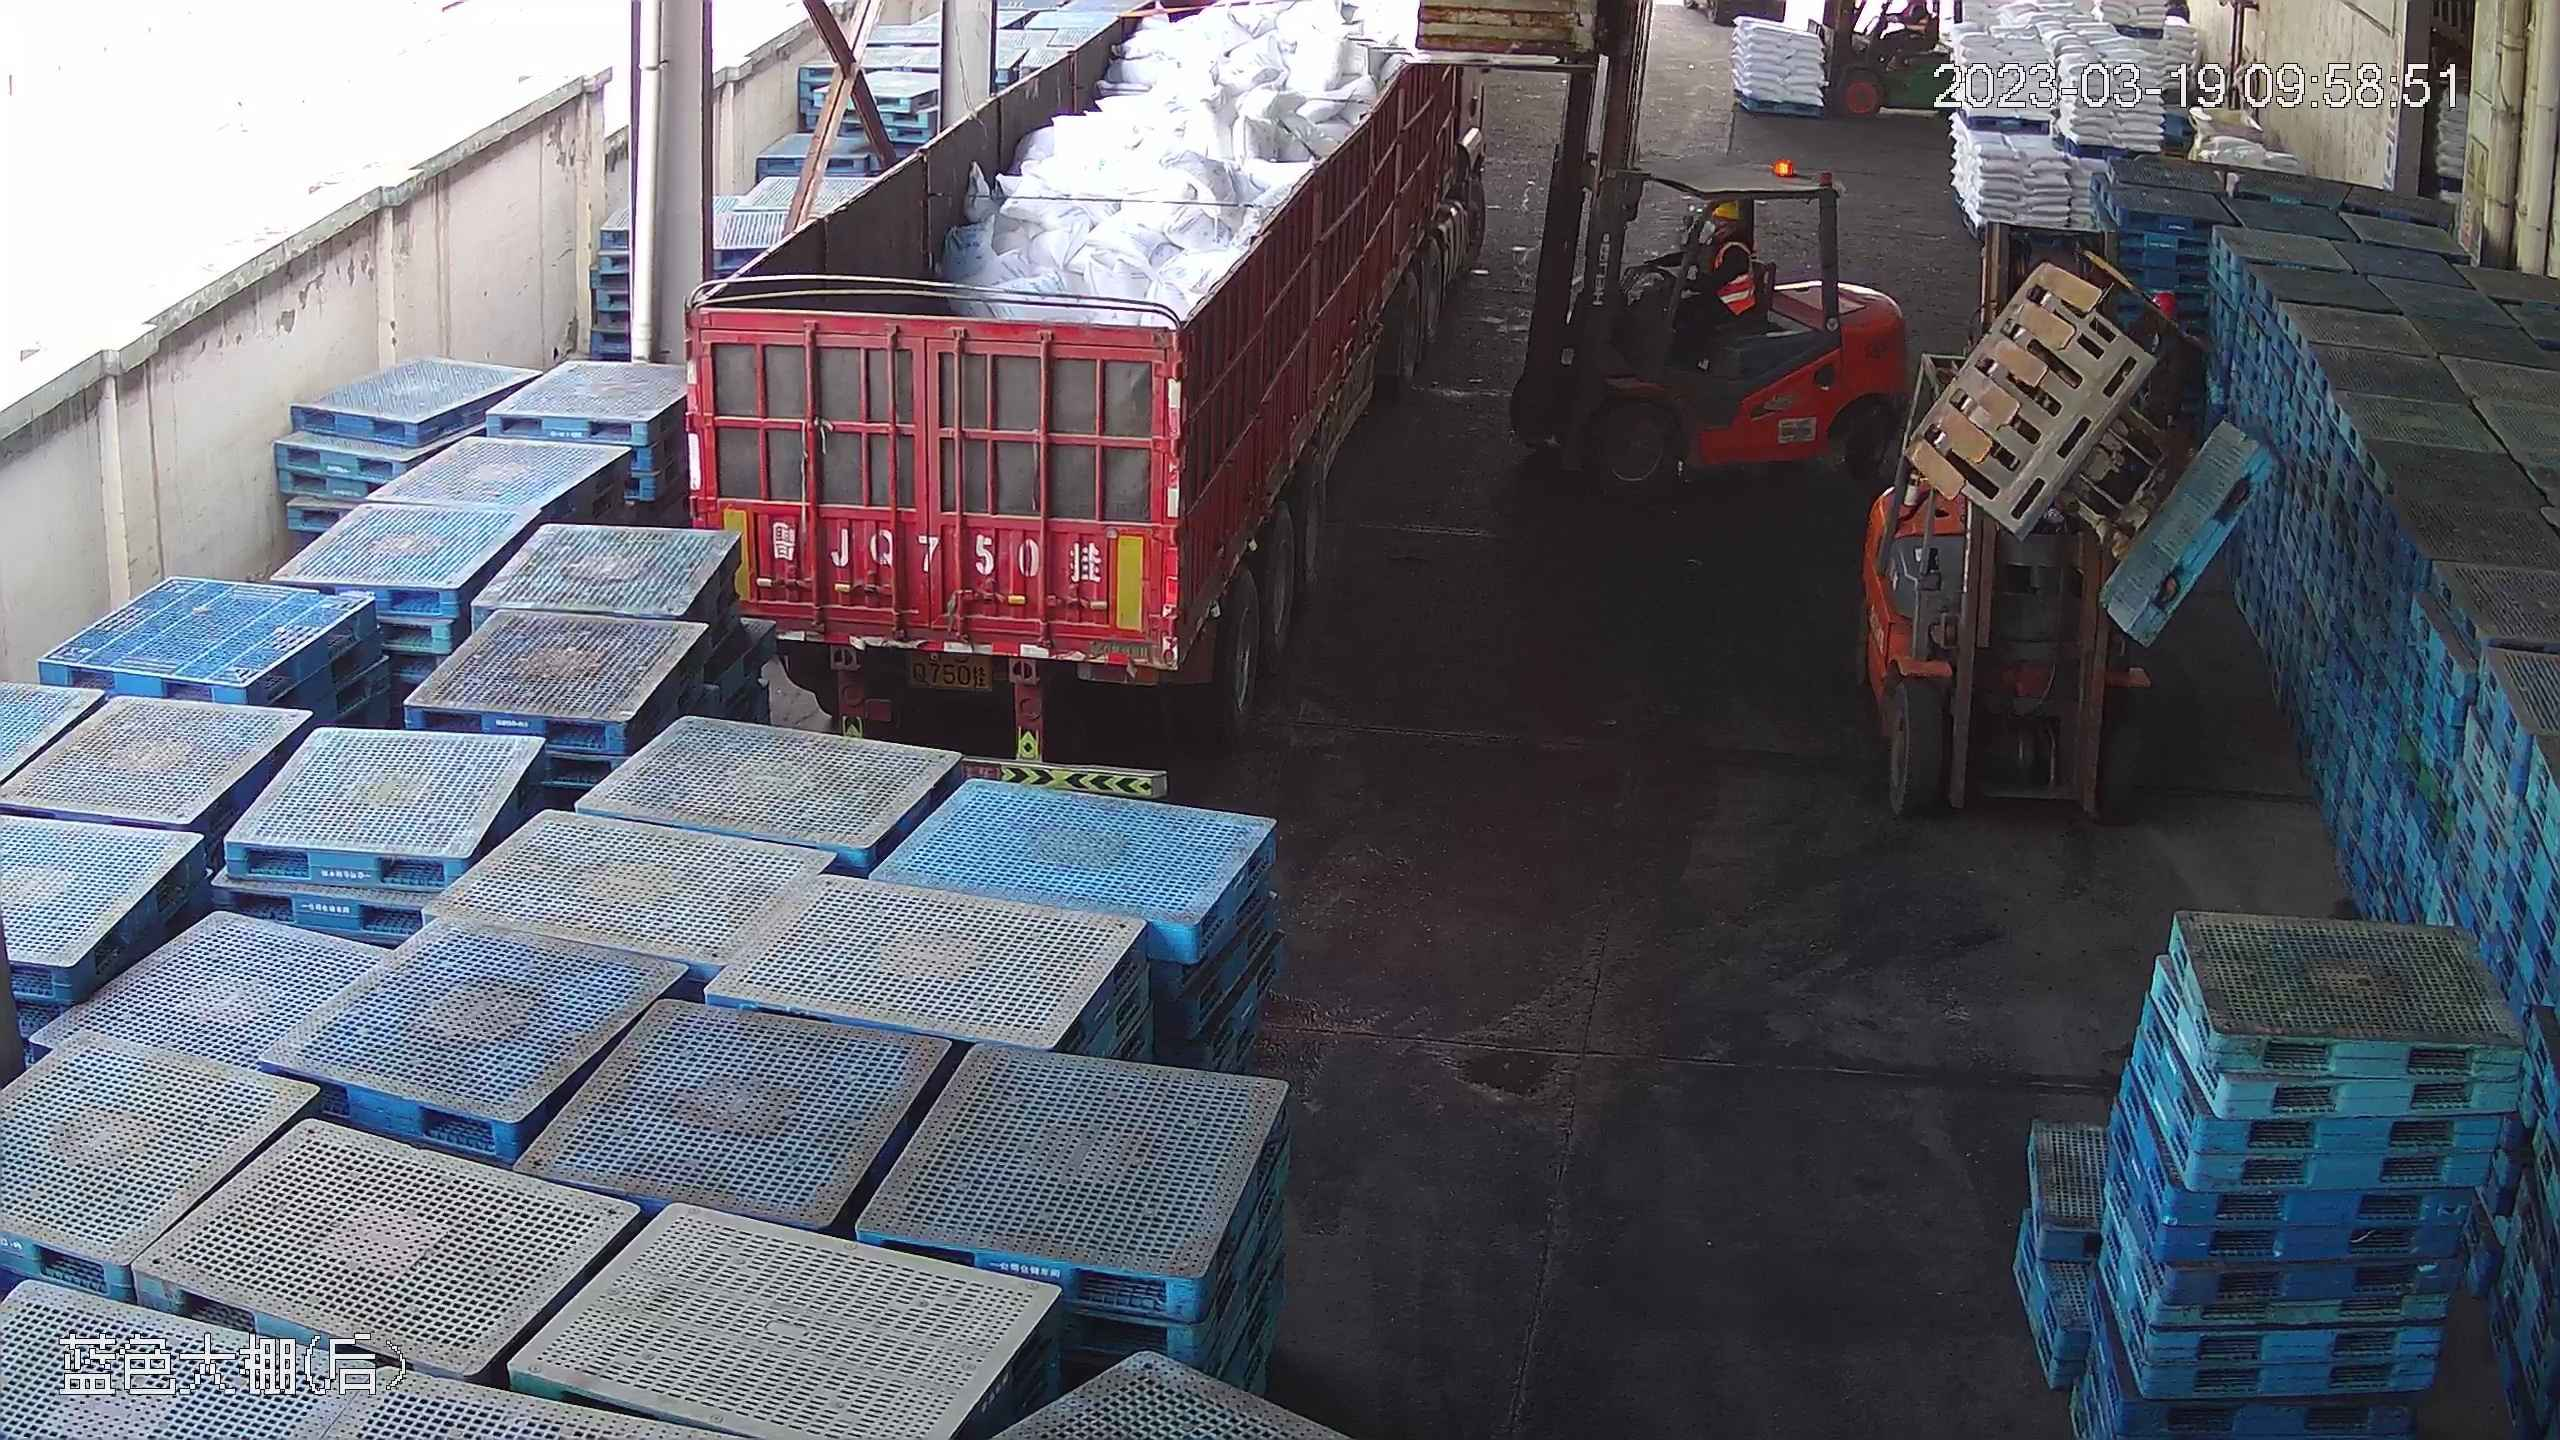head: (1696, 197, 1755, 266)
helmet: (1708, 195, 1744, 222)
people: (1651, 195, 1762, 365)
truck: (696, 0, 1516, 785)
